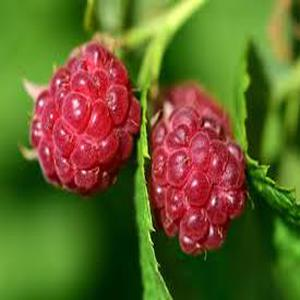raspb: (18, 30, 256, 260)
